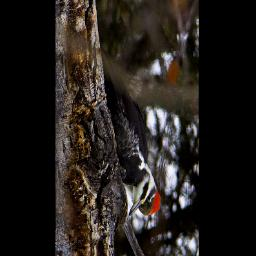Woodpecker: (105, 70, 163, 219)
